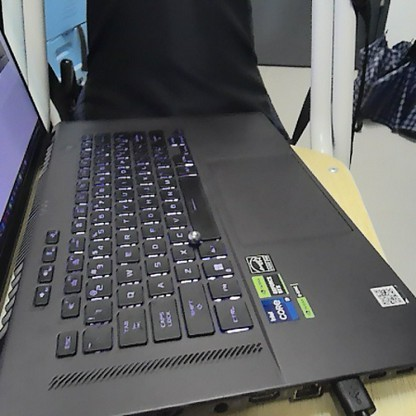ironball: (182, 227, 202, 246)
